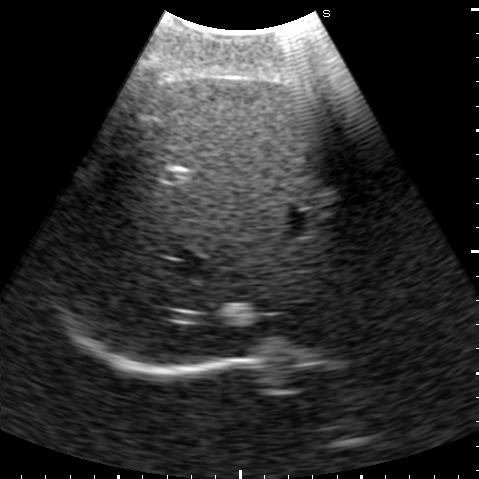S5: (125, 79, 330, 183)
S7: (52, 147, 171, 298)
S8: (113, 163, 373, 362)
Tumor: (218, 301, 258, 325)
